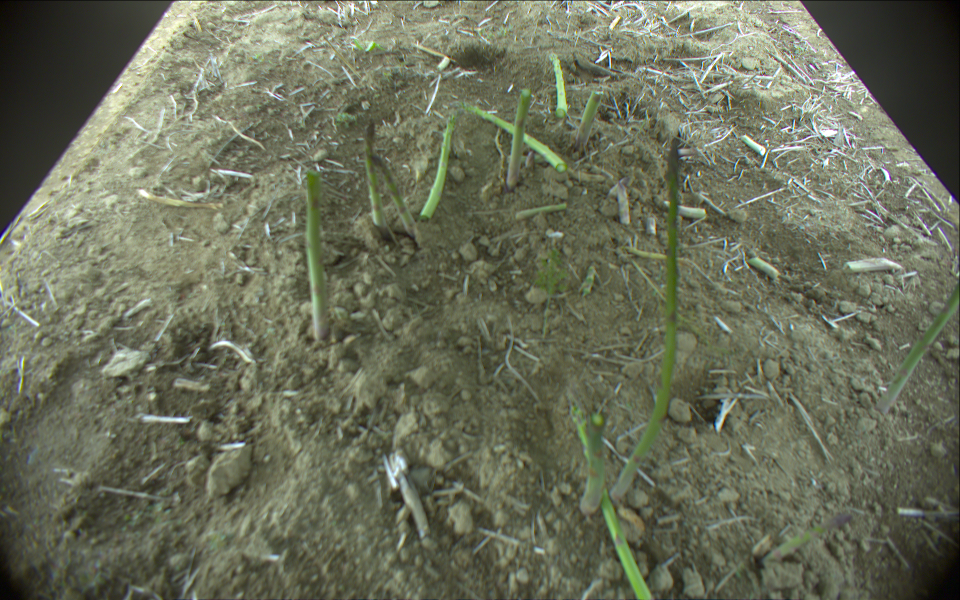aspa: (610, 135, 682, 500), (873, 279, 960, 416), (468, 103, 565, 174), (602, 496, 653, 600), (568, 402, 607, 516), (370, 155, 417, 236), (305, 171, 327, 339), (418, 118, 452, 219), (505, 89, 533, 188), (363, 120, 389, 226), (575, 90, 601, 147), (549, 52, 567, 116)
